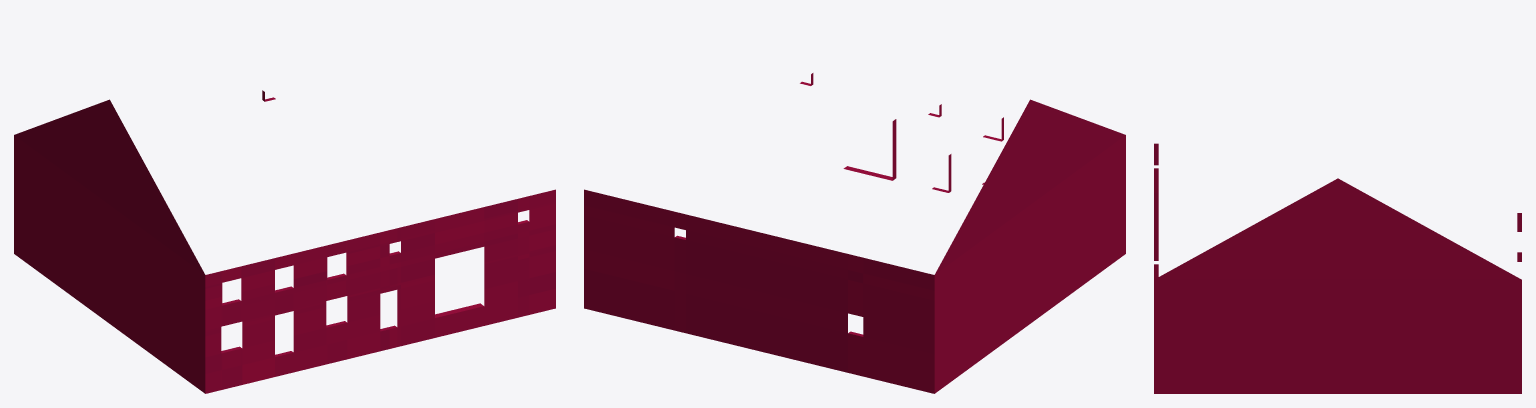
File: SM_Bld_018_Masonry.glb
3 views of the same model, side by side, from view 1: azimuth 30°, elevation 25°; view 2: azimuth 150°, elevation 25°; view 3: azimuth 270°, elevation 25° (orthographic). The views are drawn at different scales.
Visible parts, largest first — view 1: SM_Bld_018_Masonry; view 2: SM_Bld_018_Masonry; view 3: SM_Bld_018_Masonry.
Boxes of the visible parts, <box> form: SM_Bld_018_Masonry: <box>14,90,555,393</box>; SM_Bld_018_Masonry: <box>584,73,1125,393</box>; SM_Bld_018_Masonry: <box>1154,143,1521,393</box>.
Bounding box in the file's own units: 18.5 × 11.32 × 17.5.
